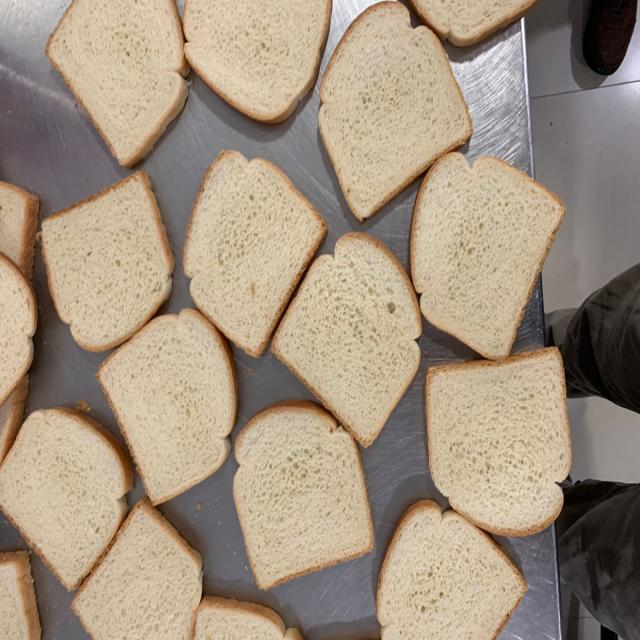pan: (318, 2, 473, 221), (407, 152, 566, 361), (270, 232, 422, 448), (183, 150, 329, 358), (425, 347, 572, 539), (97, 307, 239, 505), (233, 399, 375, 591), (0, 407, 134, 594), (39, 171, 175, 352)
